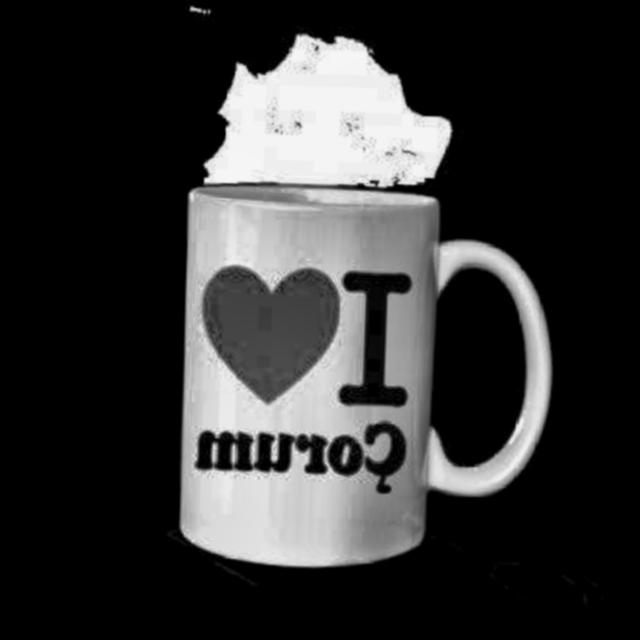Mug: (168, 175, 562, 579)
